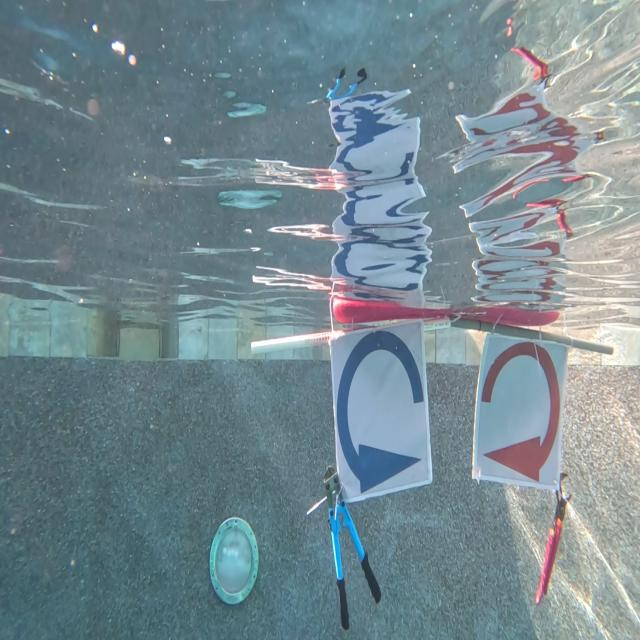blue_side: (328, 325, 436, 498)
red_side: (473, 325, 562, 491)
